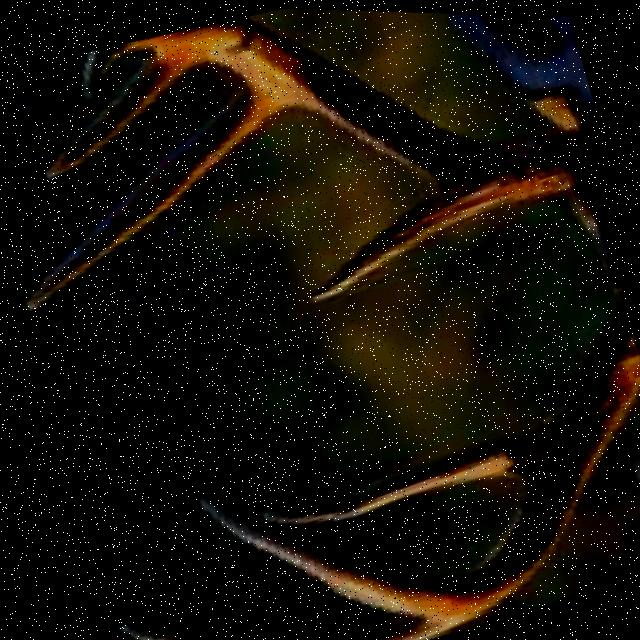L-F: (190, 279, 640, 617)
L-G1: (256, 420, 553, 524)
L-G2: (110, 614, 459, 640)
R-F: (75, 15, 580, 210)
R-G1: (303, 181, 479, 303)
R-G2: (20, 83, 292, 313)
R-G3: (42, 46, 197, 179)
